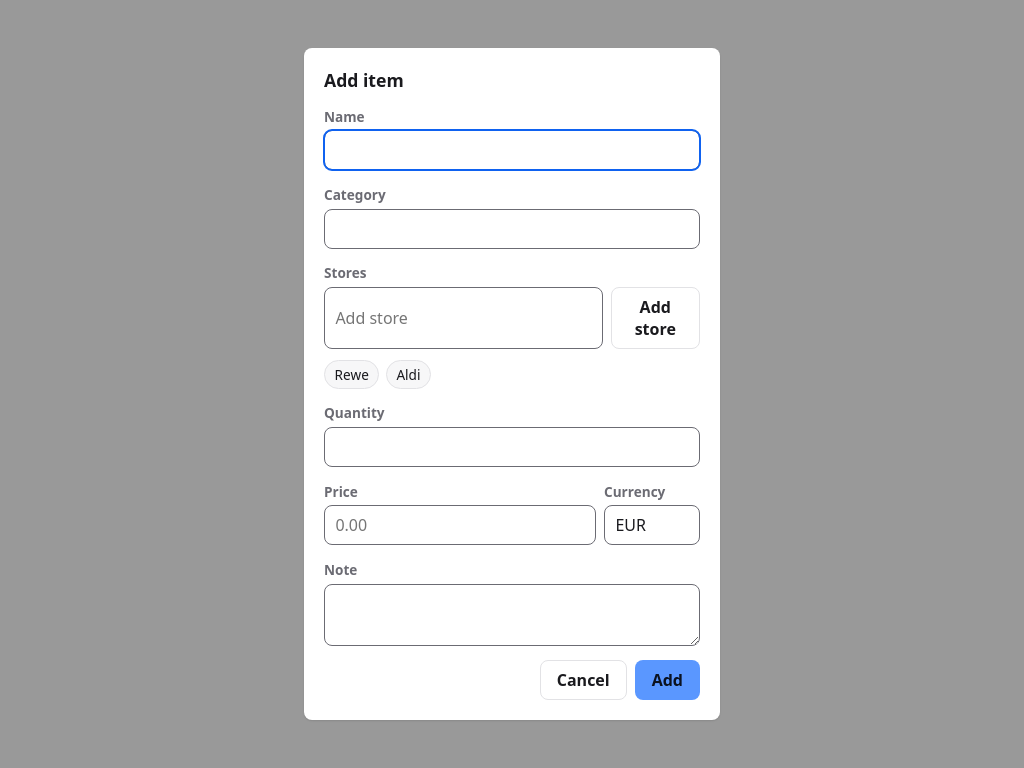
Test: ItemDialog (add mode) › offers store chips and clicking one adds it as a chip (T-139)
The image size is (1024, 768).
Check: the button "Rewe" is shown, box [324,360,379,389]
Type "al" into the field labelled "Stores" at (463, 318), box [324,287,602,349]
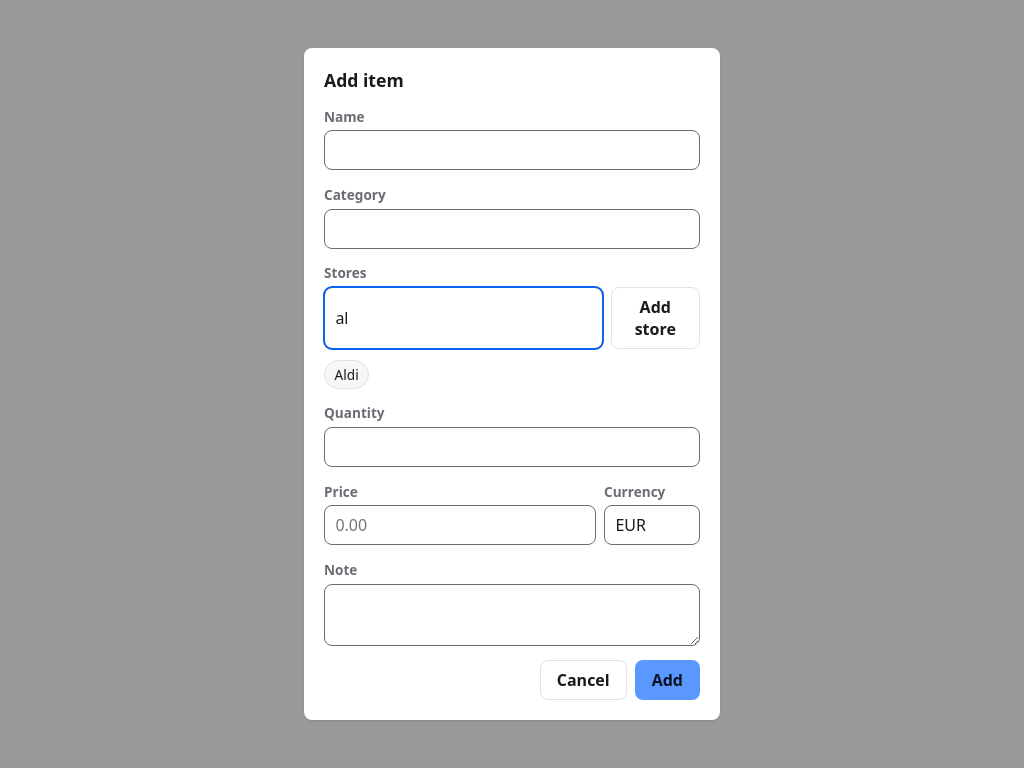
Check: the button "Rewe" is gone
Click the button "Aldi" at (347, 374), box [324,360,369,389]
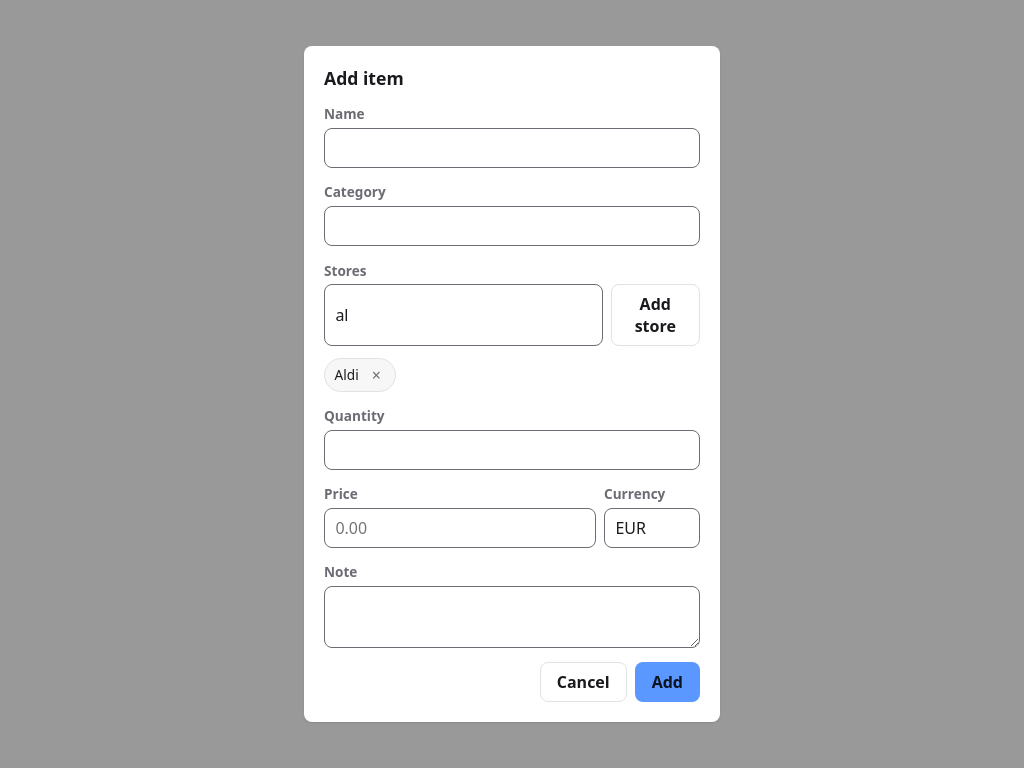
Check: the button named "Remove Aldi" is shown, box [364,362,388,386]
